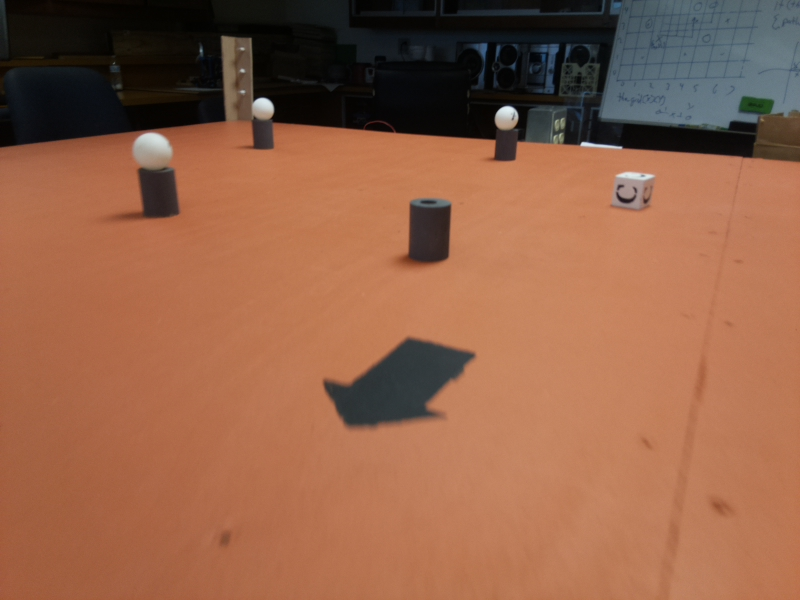blockC: (611, 168, 656, 212)
corner: (217, 33, 253, 101)
obstacle: (132, 129, 182, 227), (406, 187, 456, 263), (486, 107, 523, 165), (251, 94, 277, 153)
start: (318, 330, 480, 437)
